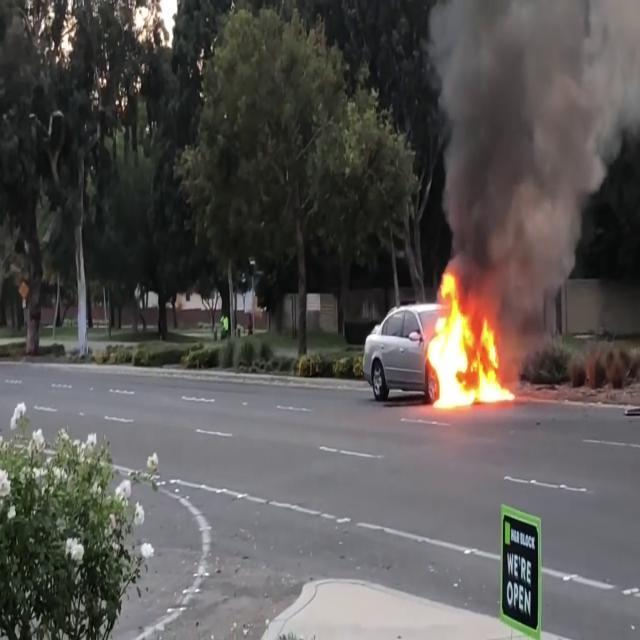Fire: (424, 268, 512, 411)
Smoke: (427, 0, 640, 288)
